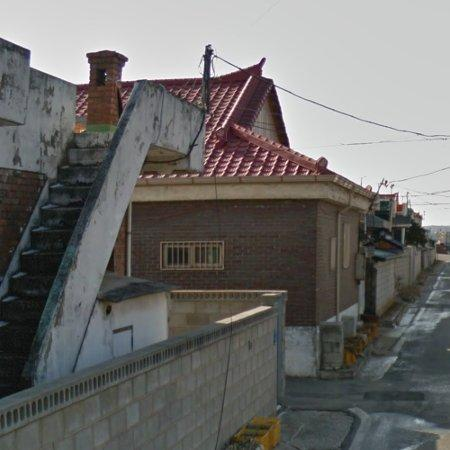chimneys: (87, 50, 128, 125)
